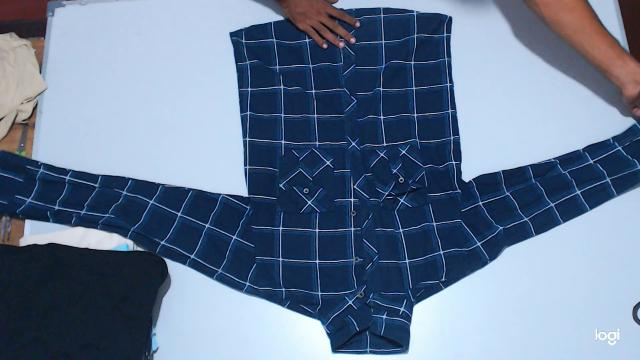new-garment: (0, 8, 640, 354)
